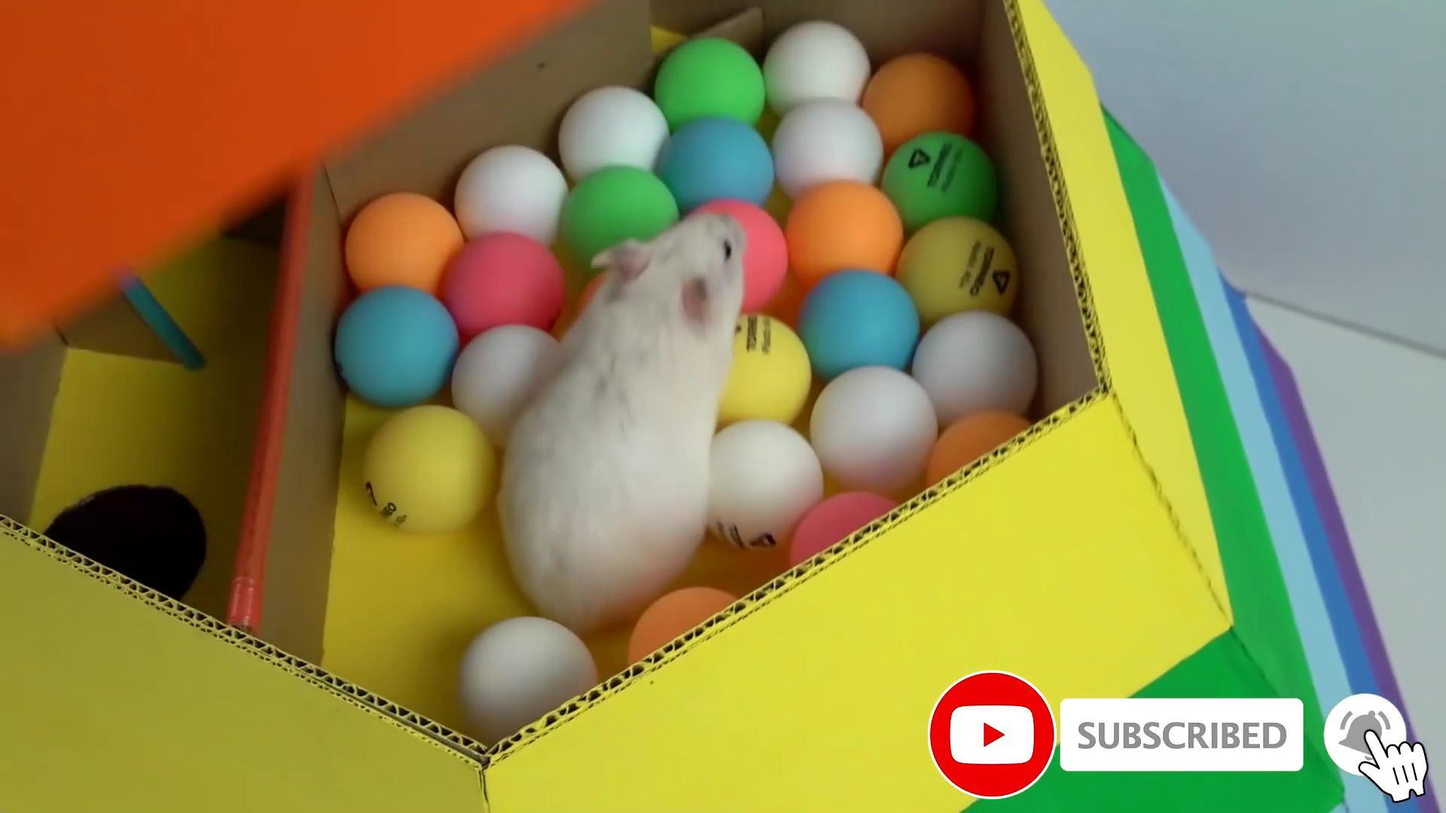rat: (498, 214, 743, 637)
